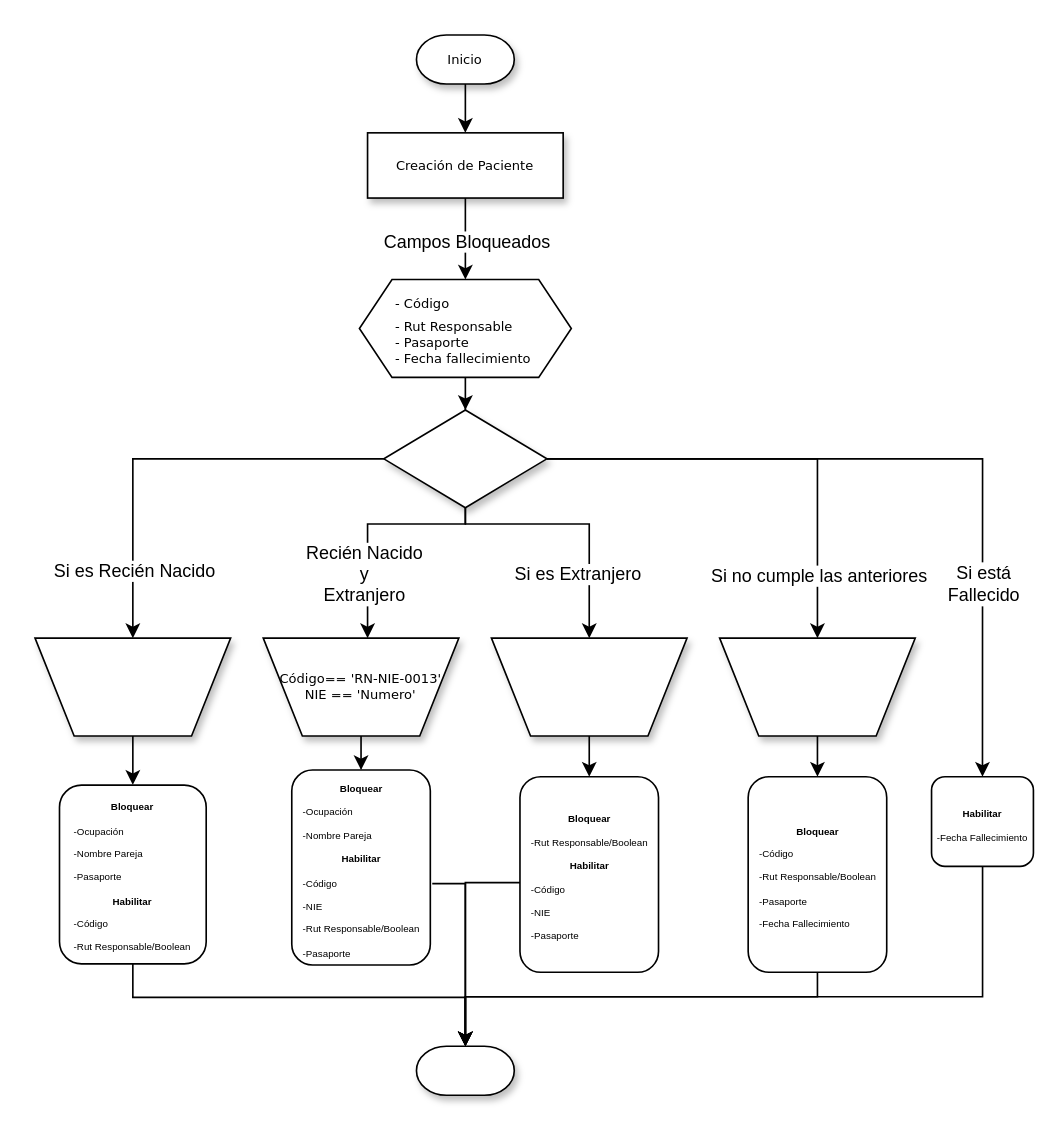
The diagram is 1063 pixels wide and 1136 high, and some of its shapes have lost their labels. Each missing label, with the centre of its shape:
"Booleanos" belongs at point 466,460.
"Código== 'NIE-0032' NIE == 'Numero'" belongs at point 590,688.
"Código== 'RN-0012'" belongs at point 133,688.
"Fin" belongs at point 466,1072.
"RUT == 'RUT Válido '" belongs at point 818,688.
